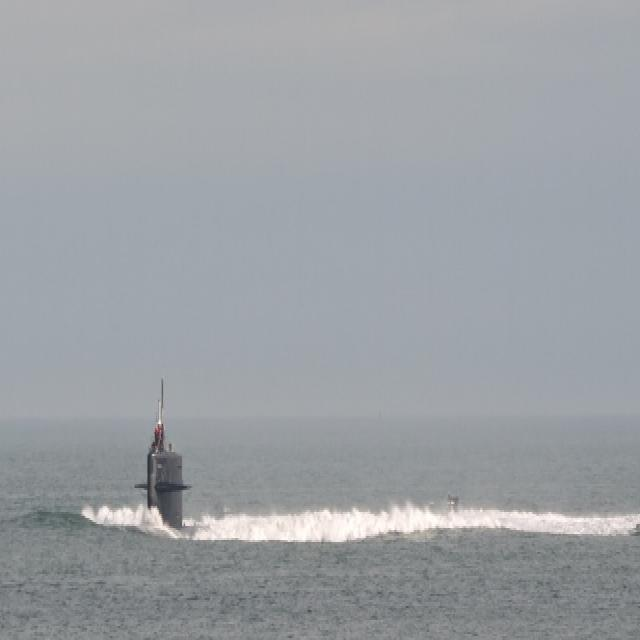submarine: (120, 381, 198, 531)
